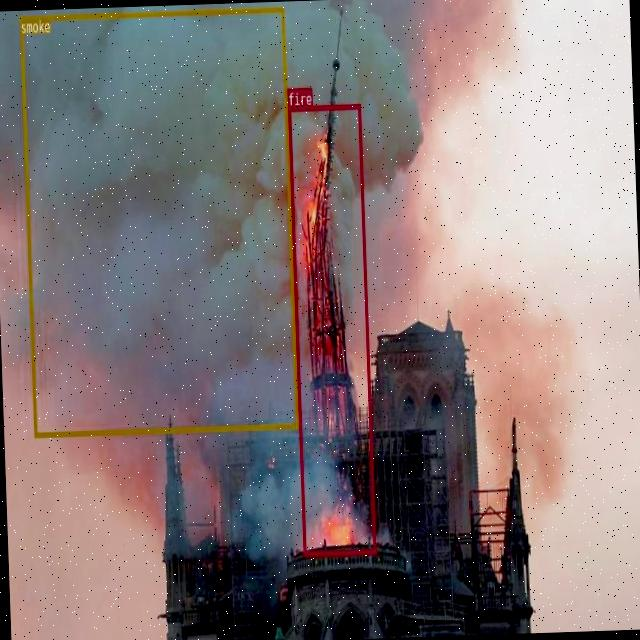fire: (287, 103, 376, 555)
smoke: (19, 6, 298, 436)
